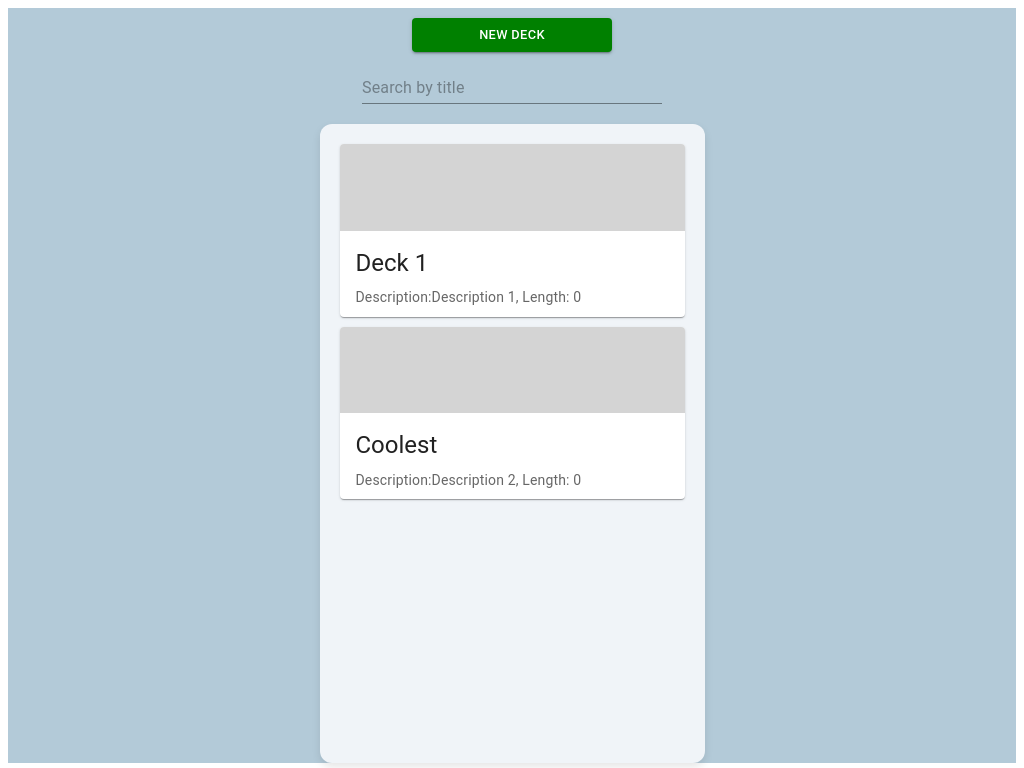
Test: DashboardPage Component › opens the New Deck modal when 'New Deck' button is clicked
The image size is (1024, 768).
Note: Click the "New Deck" button
Click the button "New Deck": [512, 35] box [412,18,612,52]
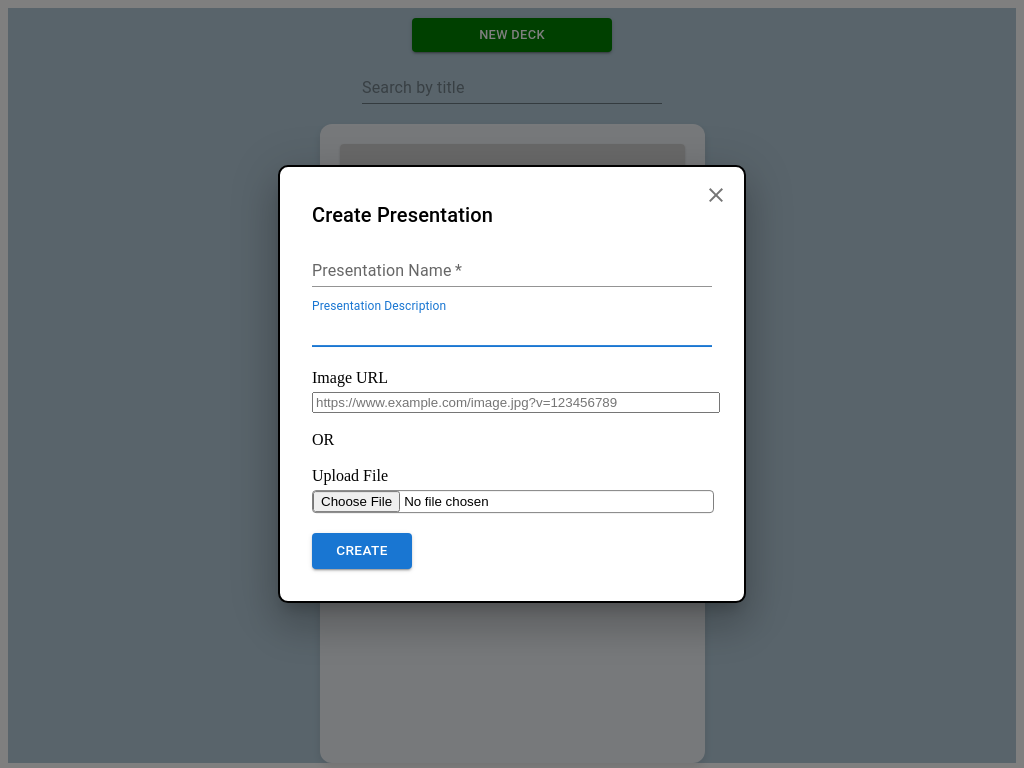
Check: the heading "Create Presentation" is shown, box [312,203,493,227]
